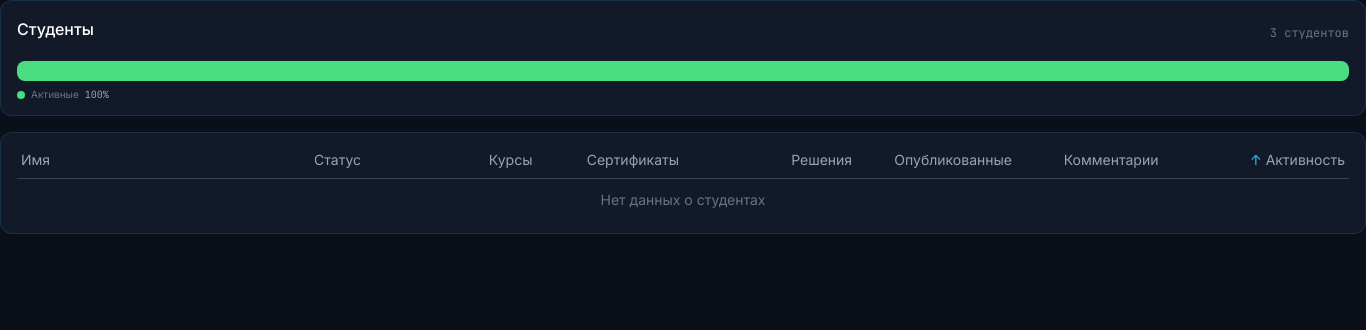
Test: Students › sorts by Опубликованные on header click
Click the column heading "Опубликованные": (936,164) [856, 149, 1016, 178]
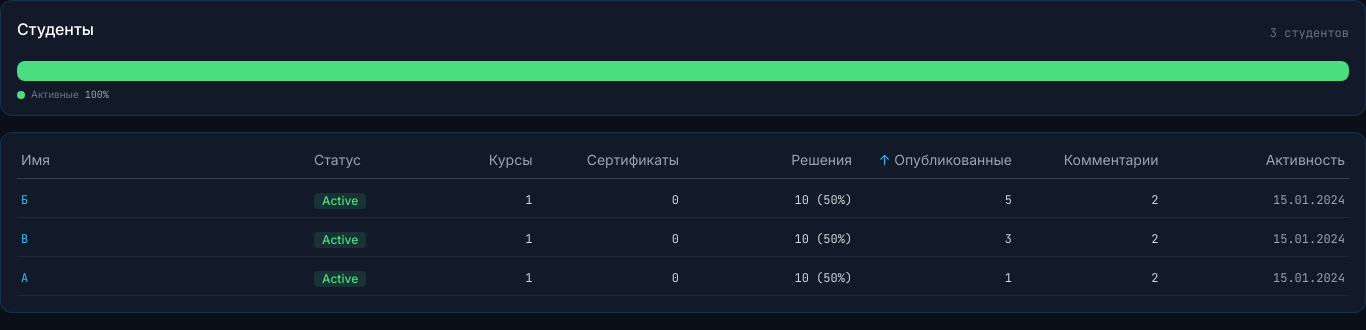
Check: the link "А" is shown, box [21, 270, 28, 286]
Check: the link "Б" is shown, box [21, 192, 28, 208]
